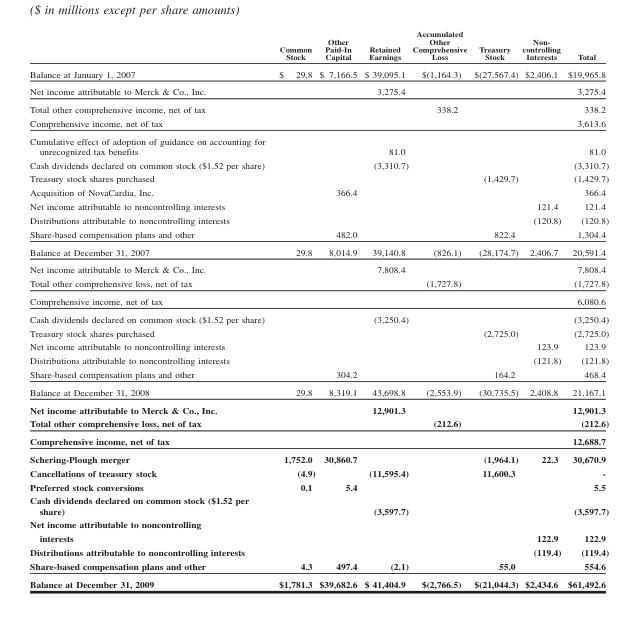table: (29, 29, 608, 588)
table column: (29, 29, 271, 588), (409, 29, 469, 588), (469, 29, 519, 588), (360, 29, 409, 588), (271, 29, 316, 588), (563, 29, 608, 588), (316, 29, 360, 588), (519, 29, 563, 588)
table column header: (29, 29, 608, 64)
table projected row header: (29, 517, 608, 531)
table row: (29, 29, 608, 64), (29, 131, 608, 157), (29, 493, 608, 517), (29, 64, 608, 82), (29, 82, 608, 100), (29, 242, 608, 260), (29, 292, 608, 309), (29, 383, 608, 400), (29, 432, 608, 449), (29, 115, 608, 131), (29, 260, 608, 276), (29, 276, 608, 292), (29, 309, 608, 325), (29, 367, 608, 383), (29, 400, 608, 416), (29, 416, 608, 432), (29, 449, 608, 465), (29, 558, 608, 574), (29, 100, 608, 115), (29, 227, 608, 242), (29, 157, 608, 171), (29, 171, 608, 185), (29, 185, 608, 199), (29, 199, 608, 213), (29, 213, 608, 227), (29, 325, 608, 339), (29, 339, 608, 353), (29, 353, 608, 367), (29, 465, 608, 479), (29, 479, 608, 493), (29, 517, 608, 531), (29, 531, 608, 545), (29, 574, 608, 588), (29, 545, 608, 558)
